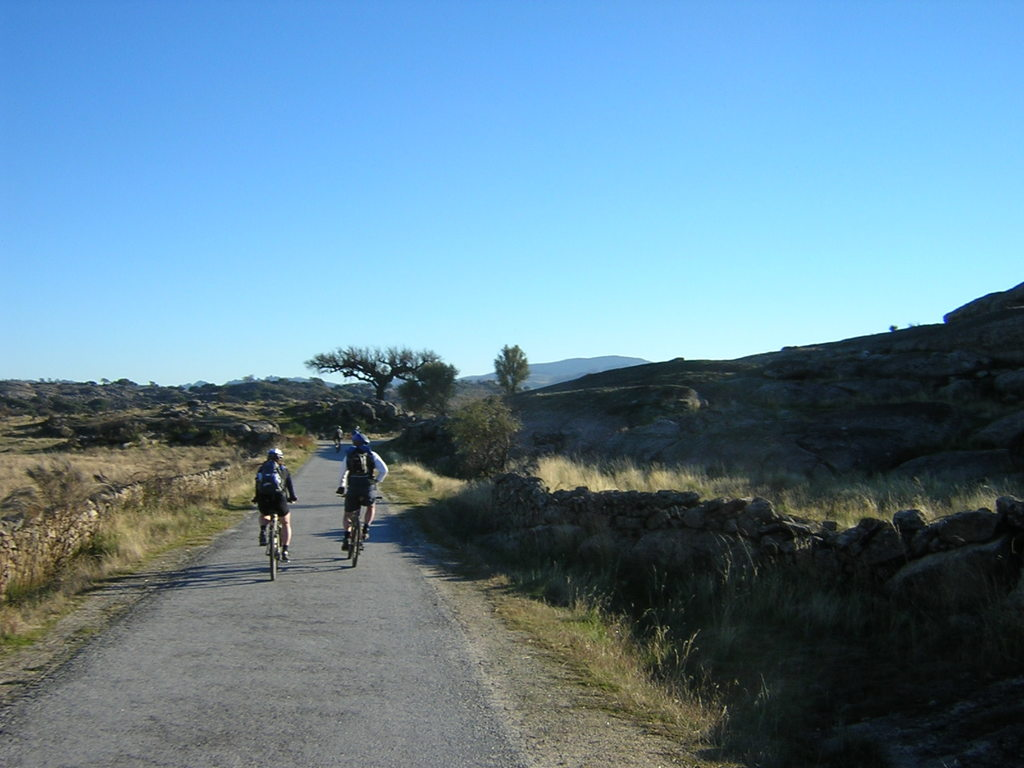Bicycle: (251, 495, 298, 577), (339, 488, 384, 570)
